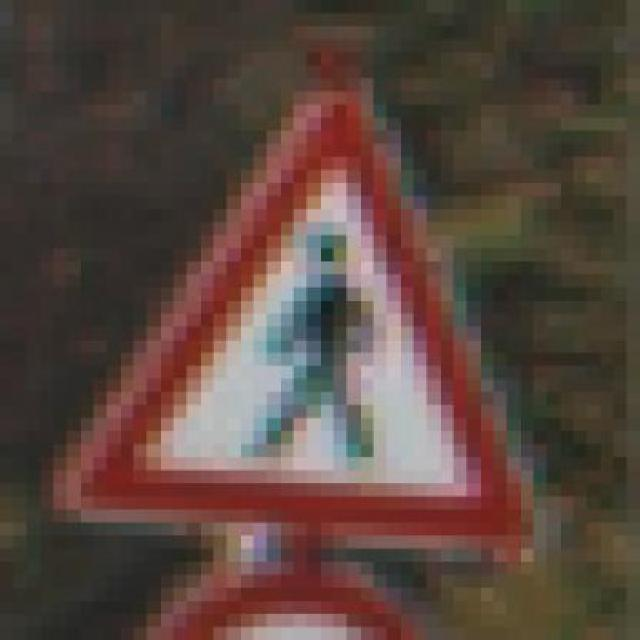Pedestrian Crossing: (55, 76, 563, 559)
